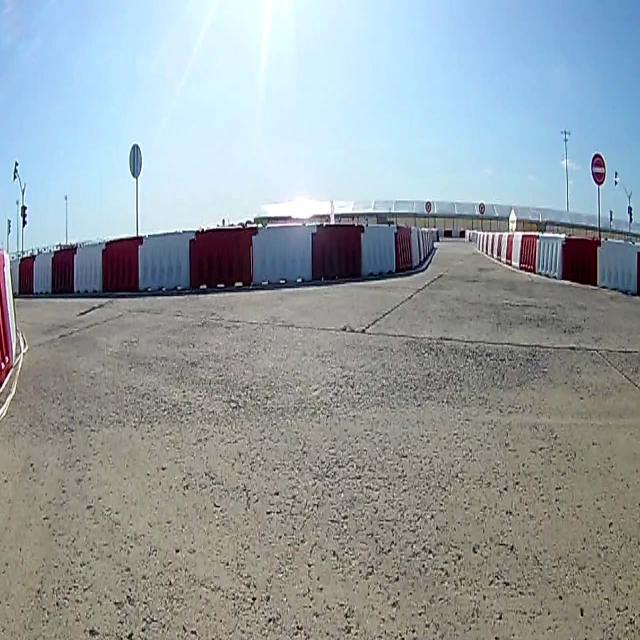girisyok: (590, 146, 606, 188)
